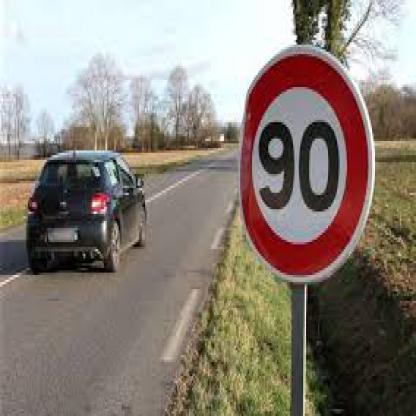Speed Limit -90-: (215, 38, 402, 277)
